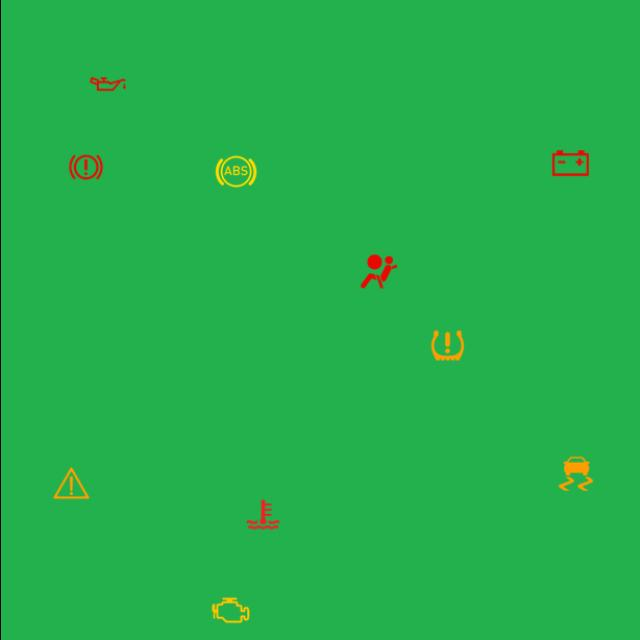Anti Lock Braking System: (212, 149, 258, 194)
Braking System Issue: (62, 145, 108, 190)
Charging System Issue: (547, 140, 592, 186)
Check Engine: (208, 588, 252, 633)
Electronic Stability Problem -ESP-: (552, 451, 598, 496)
Engine Overheating Warning Light: (240, 492, 284, 537)
Low Engine Oil Warning Light: (84, 62, 130, 106)
Low Tire Pressure Warning Light: (424, 323, 469, 368)
Master warning light: (48, 460, 93, 506)
SRS-Airbag: (356, 249, 400, 294)
